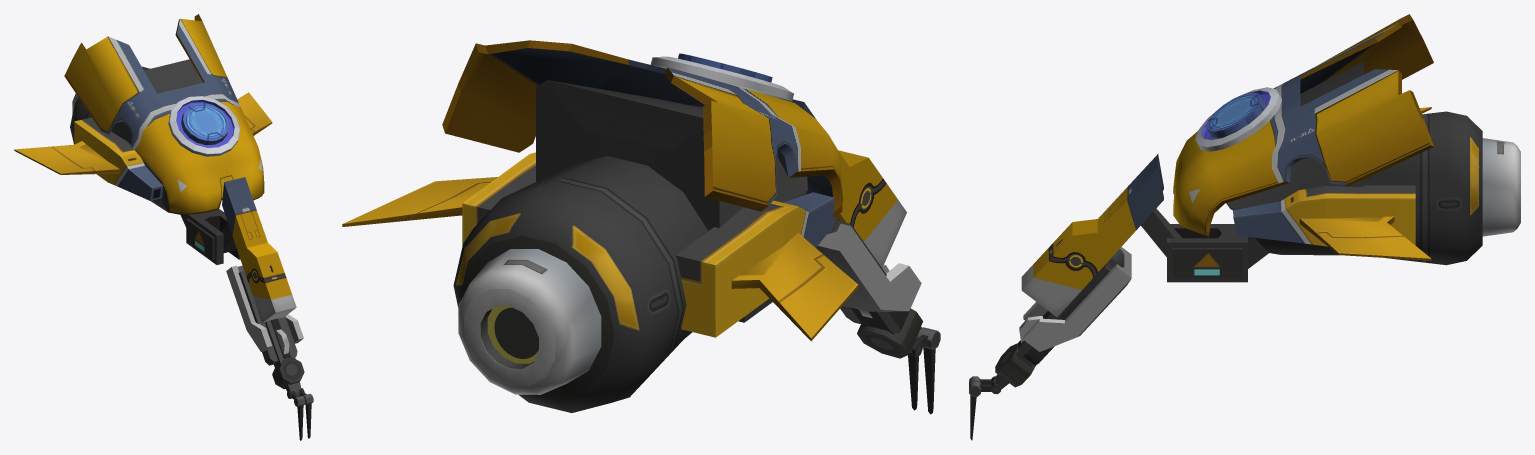
File: Prop_zuzhuangbi.FBX
The picture shows the model from 3 angles, left to right: view 1: azimuth 30°, elevation 25°; view 2: azimuth 150°, elevation 25°; view 3: azimuth 270°, elevation 25°; orthographic projection. The views are drawn at different scales.
Visible parts, largest first — view 1: Prop_zuzhuangbi; view 2: Prop_zuzhuangbi; view 3: Prop_zuzhuangbi.
Part boxes in pixels (x1,y1,x2,y2): Prop_zuzhuangbi: (14, 14, 313, 440); Prop_zuzhuangbi: (342, 40, 940, 414); Prop_zuzhuangbi: (969, 14, 1520, 440).
Size of the model in its own units: 2.42 by 2.91 by 3.72.
Materials: 1 (1 with a texture image).
